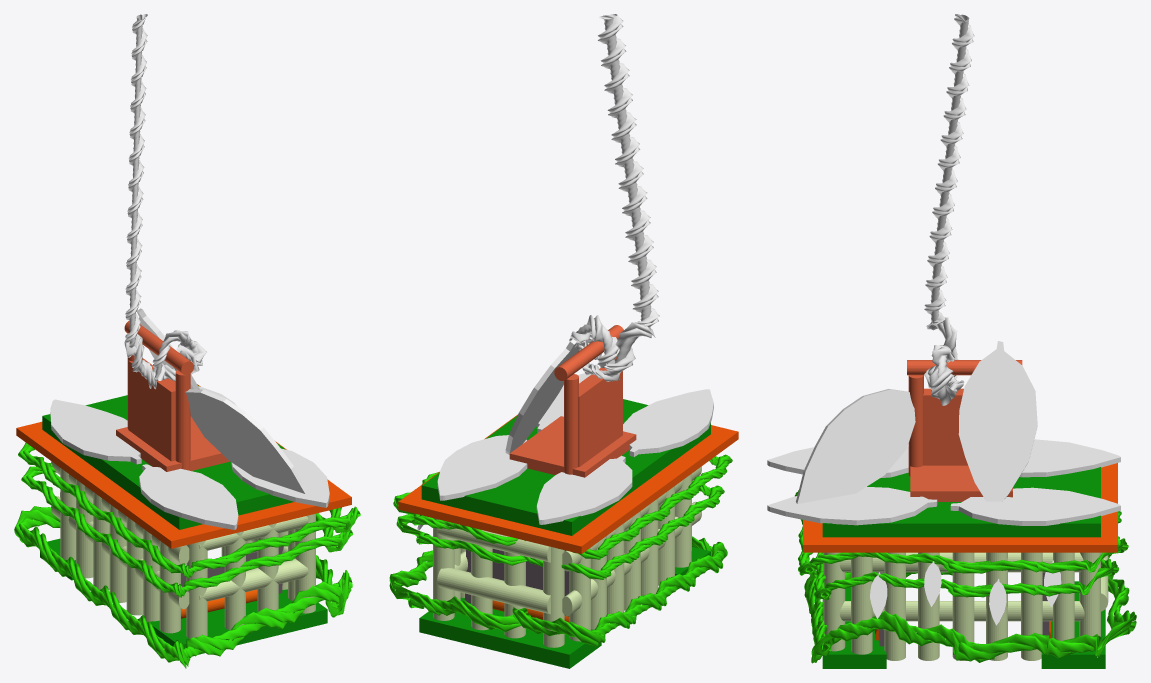
File: cage7.fbx
The picture shows the model from 3 angles, left to right: view 1: azimuth 30°, elevation 25°; view 2: azimuth 150°, elevation 25°; view 3: azimuth 270°, elevation 25°; orthographic projection.
Visible parts, largest first — view 1: Circle.003, Cube.012, Circle.002, Cube.013, Cube, Circle, Circle.001, Cube.008, Cube.007, Cube.002, Cube.004, Cube.009 (+18 smaller); view 2: Circle.002, Cube.012, Circle.003, Cube, Cube.008, Cube.007, Cube.005, Cube.003, Circle.001, Cube.002, Circle, Cube.001 (+20 smaller); view 3: Cube.010, Cube.013, Circle.003, Cube, Circle.002, Cube.012, Cube.003, Cube.009, Circle, Circle.001, Cube.002, Cube.007 (+20 smaller).
Boxes of the visible parts, x1=… form: Circle.003: x1=14, y1=506, x2=352, y2=668; Cube.012: x1=16, y1=384, x2=351, y2=548; Circle.002: x1=124, y1=14, x2=206, y2=389; Cube.013: x1=185, y1=389, x2=309, y2=493; Cube: x1=42, y1=385, x2=293, y2=529; Circle: x1=18, y1=442, x2=360, y2=578; Circle.001: x1=21, y1=463, x2=352, y2=597; Cube.008: x1=139, y1=464, x2=238, y2=529; Cube.007: x1=50, y1=399, x2=141, y2=464; Cube.002: x1=128, y1=358, x2=175, y2=461; Cube.004: x1=151, y1=589, x2=327, y2=654; Cube.009: x1=231, y1=448, x2=329, y2=507; Circle.002: x1=569, y1=14, x2=659, y2=381; Cube.012: x1=398, y1=414, x2=738, y2=554; Circle.003: x1=389, y1=536, x2=727, y2=646; Cube: x1=421, y1=399, x2=710, y2=535; Cube.008: x1=623, y1=389, x2=713, y2=456; Cube.007: x1=536, y1=455, x2=632, y2=524; Cube.005: x1=419, y1=597, x2=601, y2=668; Cube.003: x1=437, y1=435, x2=527, y2=500; Circle.001: x1=396, y1=481, x2=724, y2=579; Cube.002: x1=578, y1=367, x2=622, y2=466; Circle: x1=393, y1=454, x2=732, y2=559; Cube.001: x1=509, y1=416, x2=636, y2=477; Cube.010: x1=958, y1=341, x2=1037, y2=501; Cube.013: x1=796, y1=389, x2=915, y2=503; Circle.003: x1=804, y1=554, x2=1136, y2=663; Cube: x1=822, y1=467, x2=1100, y2=537; Circle.002: x1=924, y1=14, x2=974, y2=405; Cube.012: x1=803, y1=463, x2=1117, y2=552; Cube.003: x1=950, y1=487, x2=1120, y2=525; Cube.009: x1=767, y1=487, x2=937, y2=525; Circle: x1=795, y1=490, x2=1128, y2=575; Circle.001: x1=814, y1=552, x2=1118, y2=600; Cube.002: x1=923, y1=388, x2=967, y2=465; Cube.007: x1=1019, y1=439, x2=1120, y2=477.
Size of the model in its own units: 587 by 1514 by 848.
Materials: 9 (1 with a texture image).
